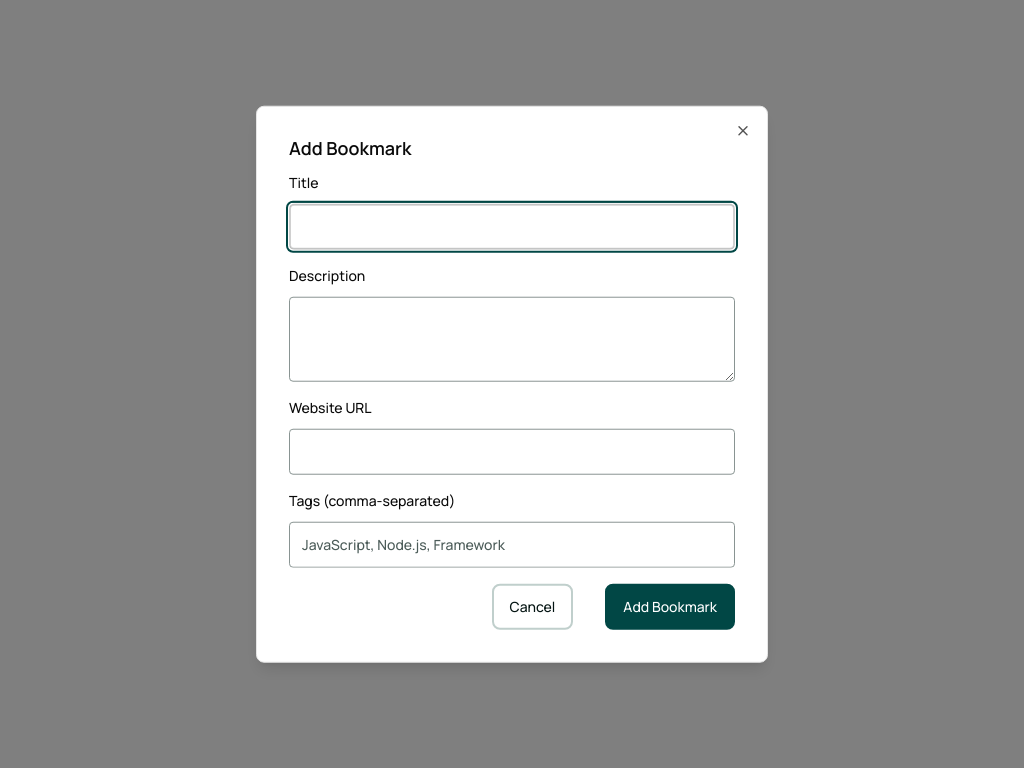
Scenario: AddBookmarkDialog › validates URL format
Type "Test Bookmark" into the field labelled "Title" at (512, 227), box [289,204,735,250]
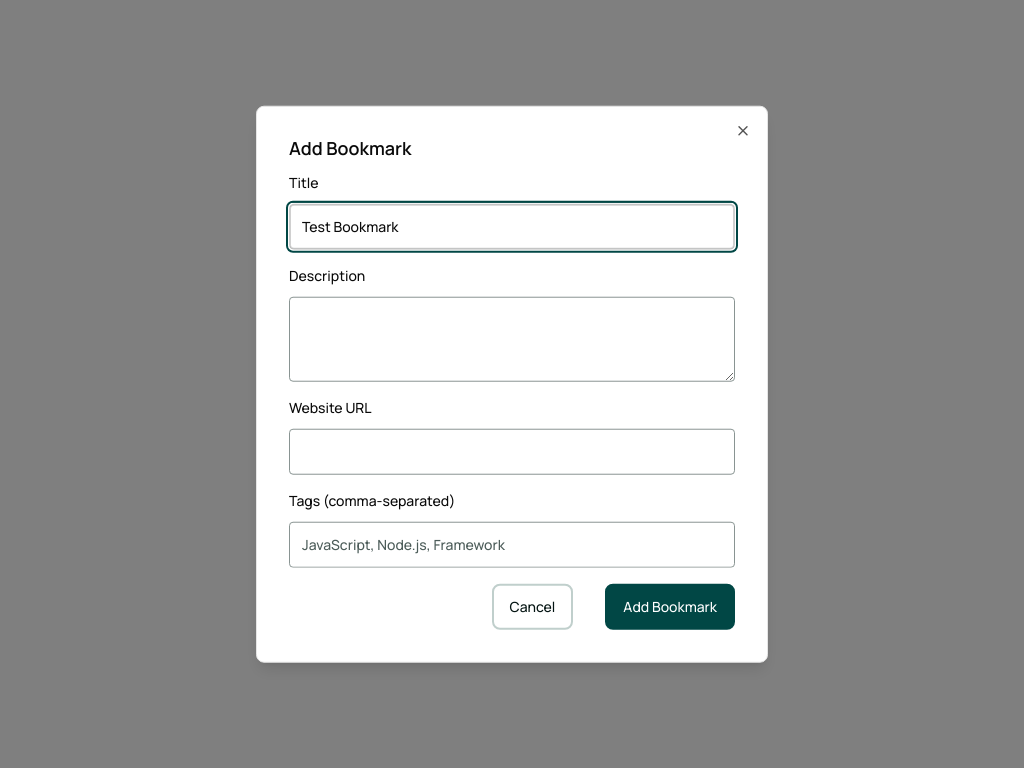
Type "Test Description" into the text box labelled "Description" at (512, 339), box [289,297,735,382]
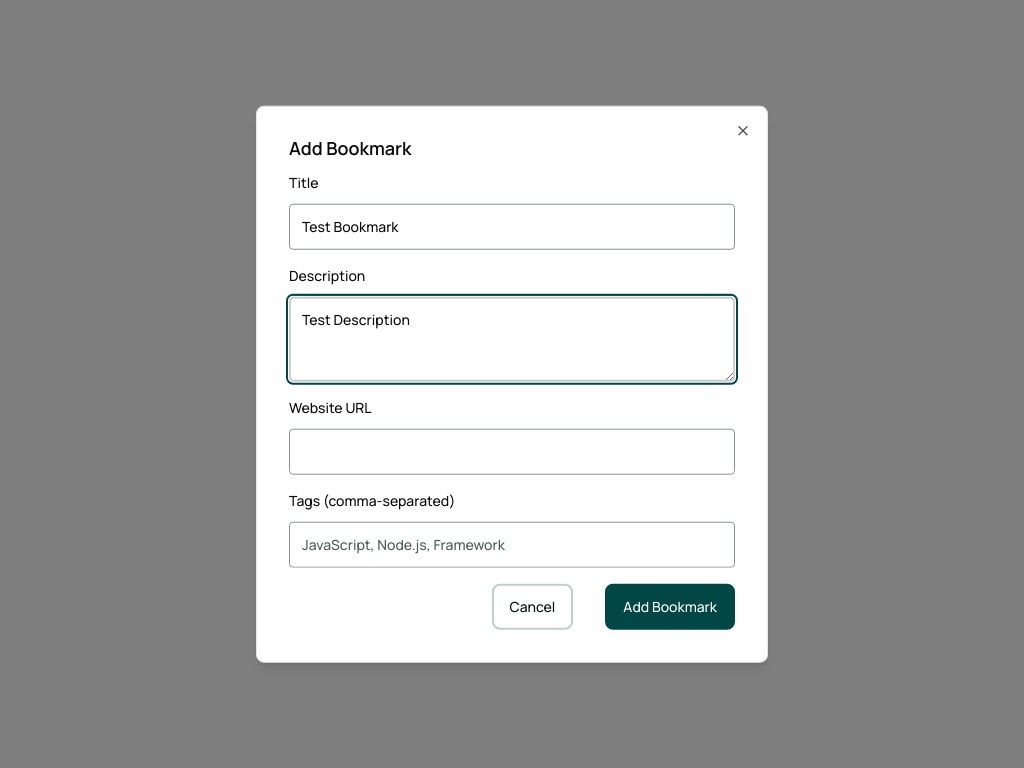
Type "not-a-valid-url" into the field labelled "Website URL" at (512, 452), box [289,429,735,474]
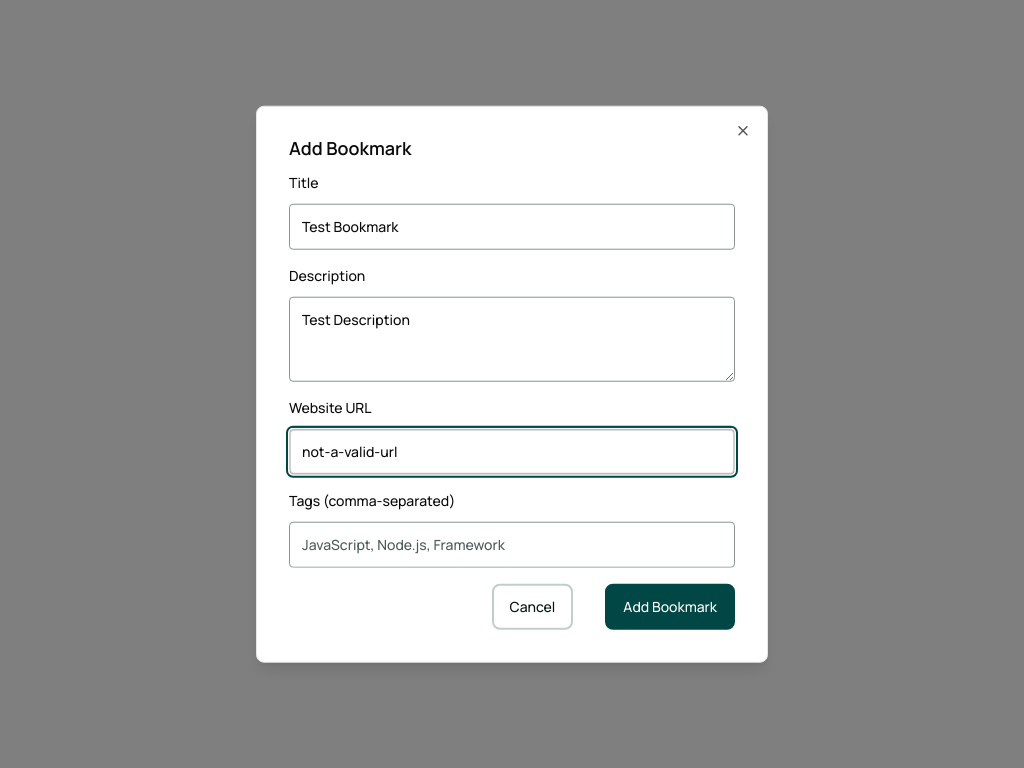
Click the button "Add Bookmark" at (670, 606), box [605,583,735,629]
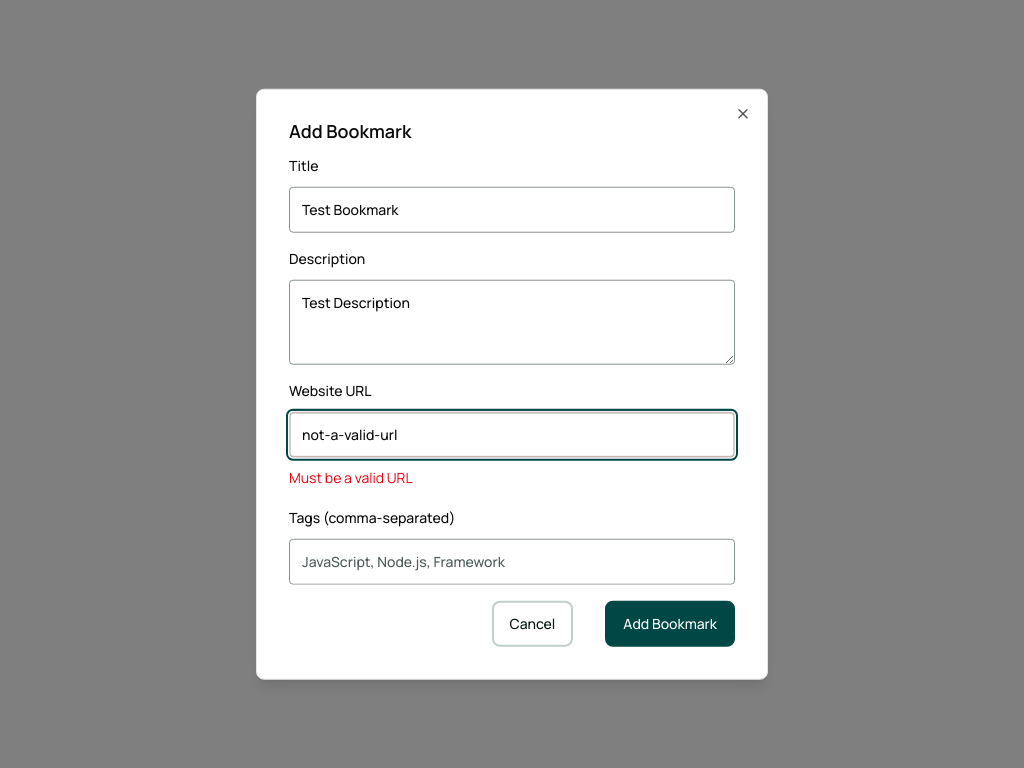
Expected: the text "Must be a valid URL" is shown, [289,467,413,486]
